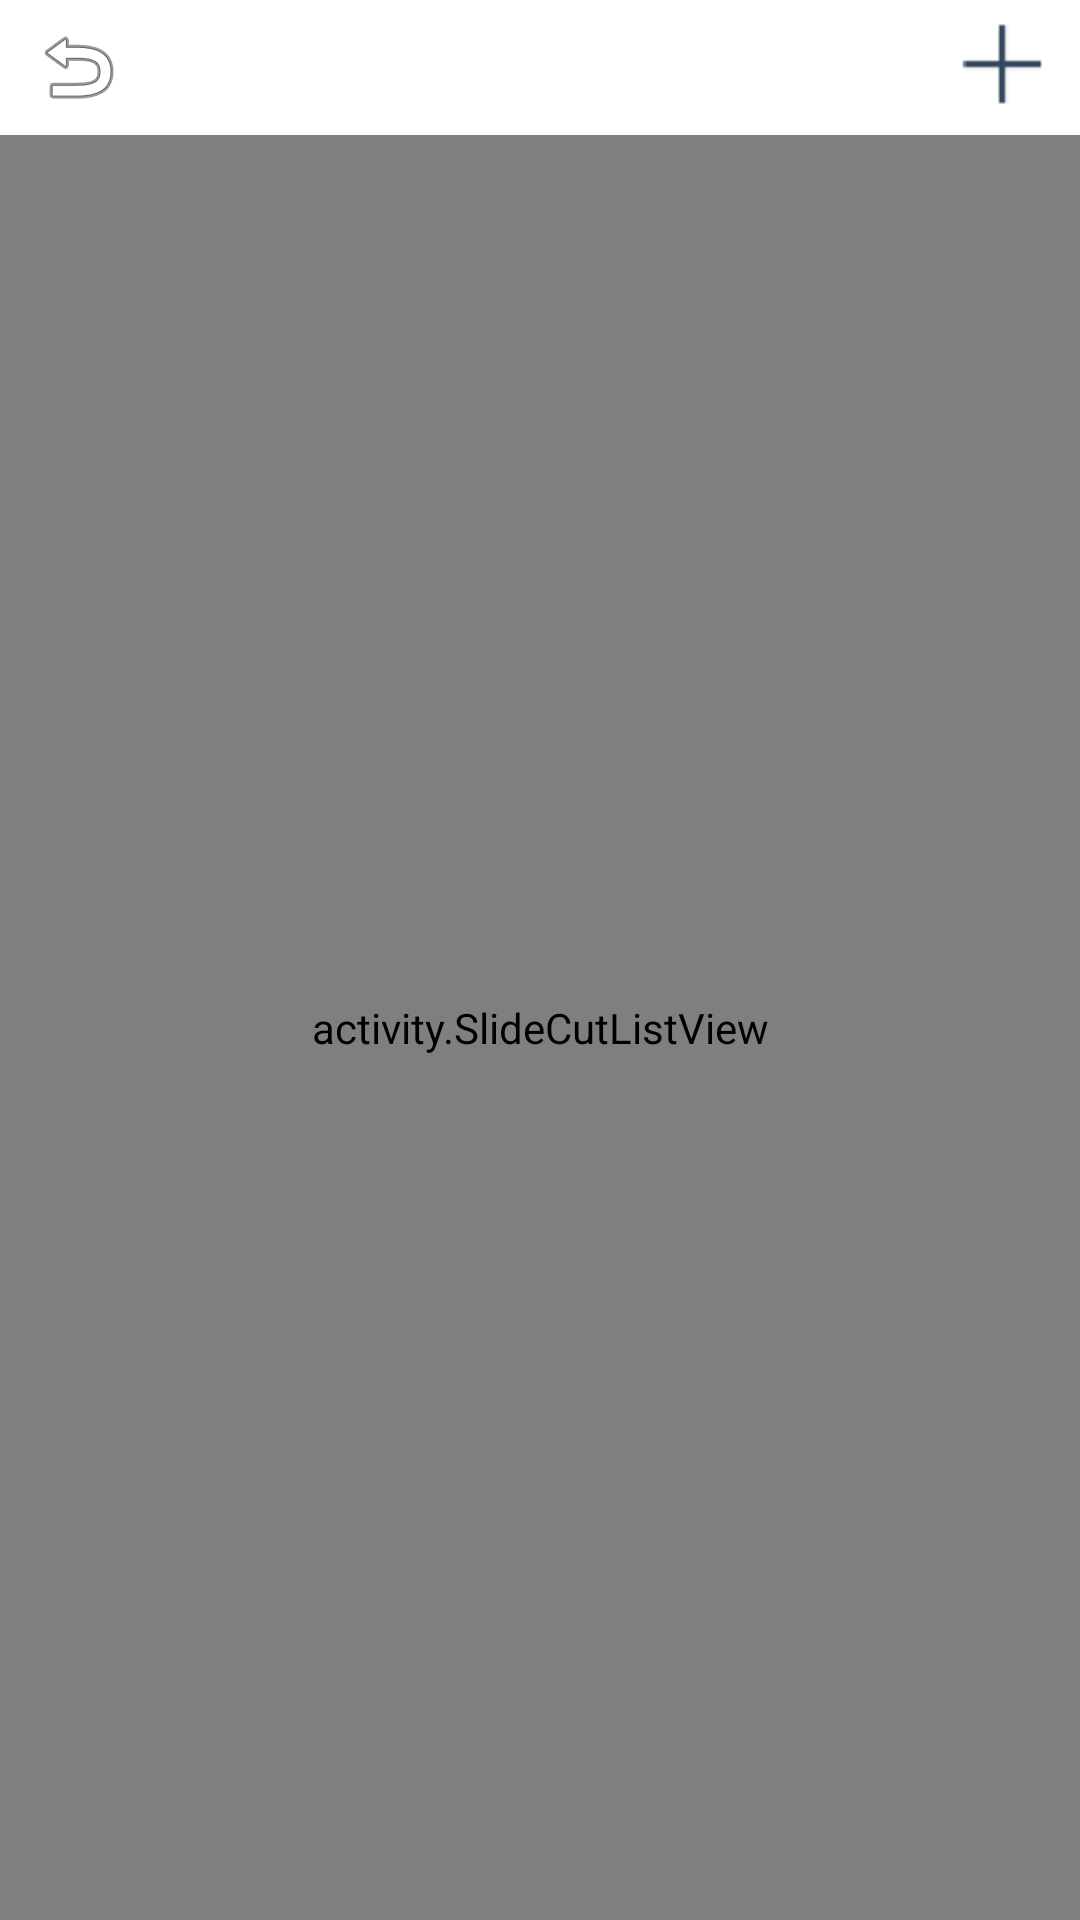

Icons on this 1080px x 1920px Android screen, each with the point to tap as (x,y):
addicom: (1002,64)
revert: (79,67)
